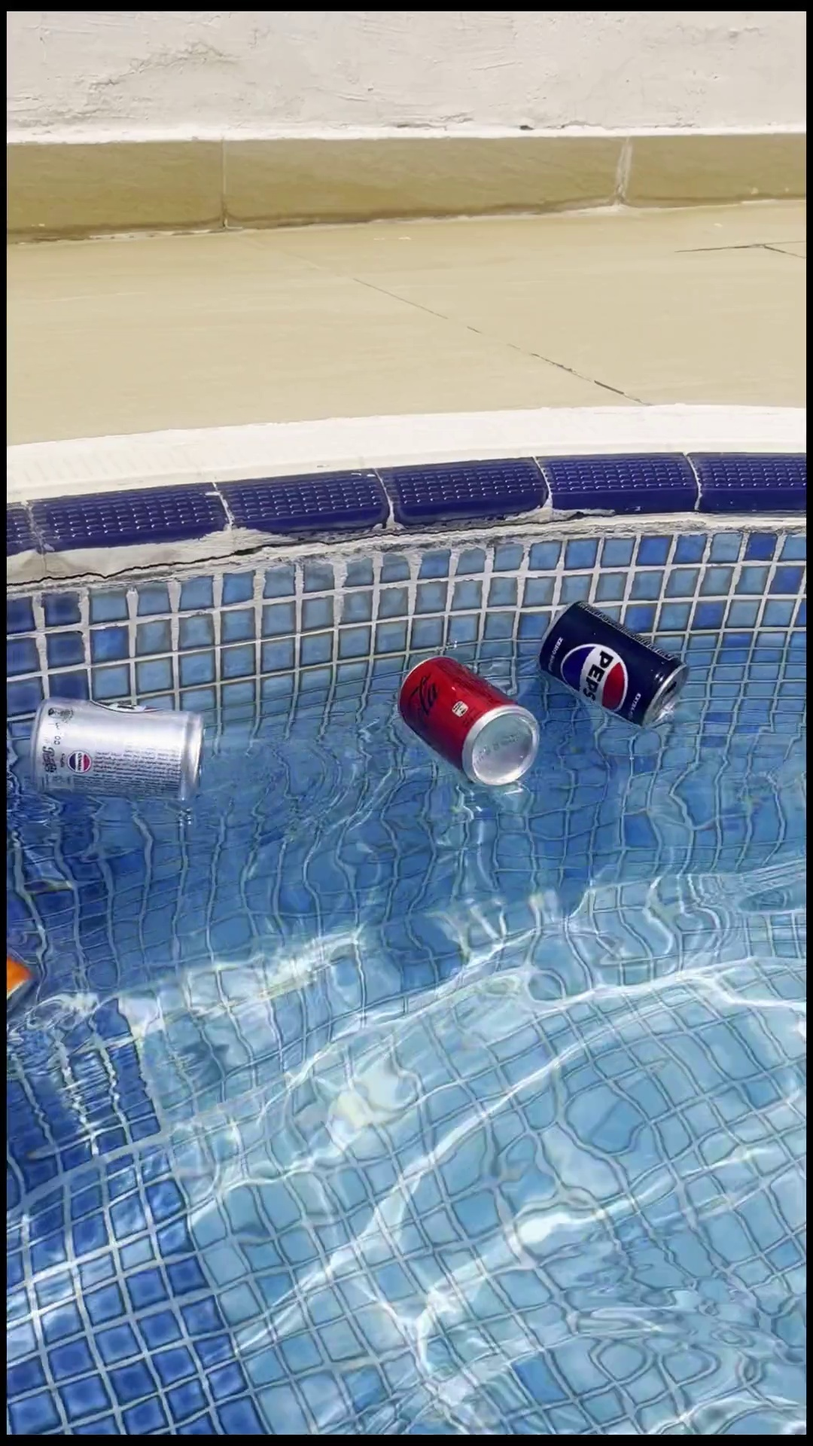debris: (534, 563, 689, 768), (391, 639, 537, 811), (25, 694, 212, 825), (8, 947, 42, 1027)
